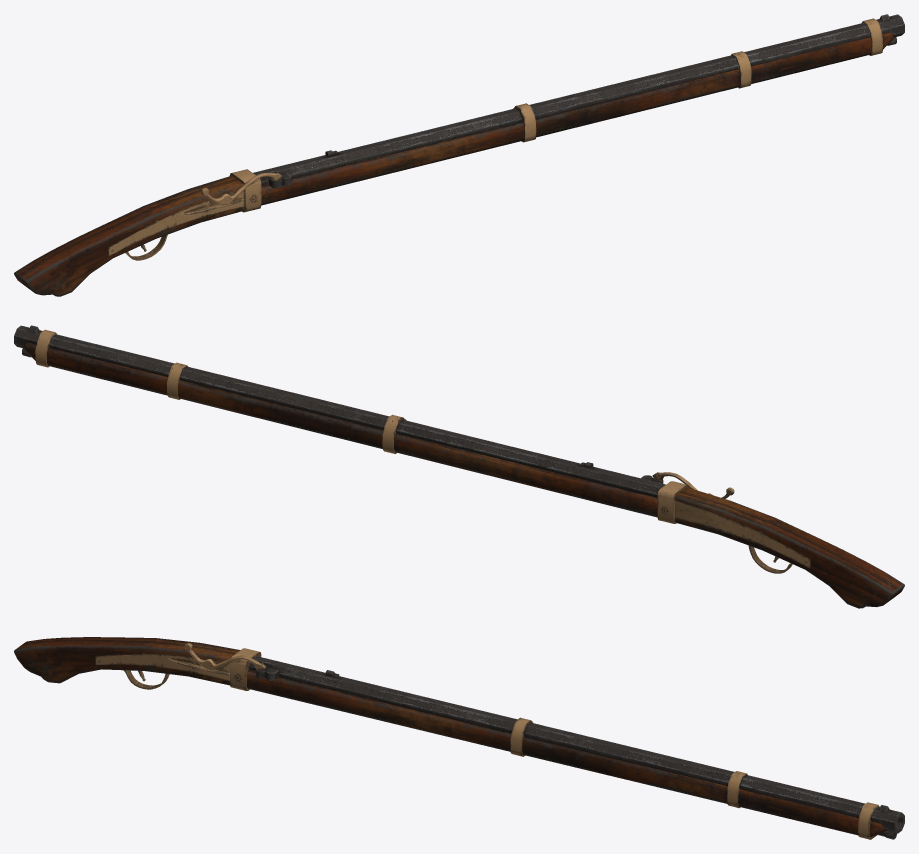
Rendered from matchlock.glb.
3 views of the same model, one above another, from view 1: azimuth 30°, elevation 25°; view 2: azimuth 150°, elevation 25°; view 3: azimuth 330°, elevation 25° (orthographic).
Bounding box in the file's own units: 1.39 × 0.1153 × 0.0502.
1 material, 1 textured.
